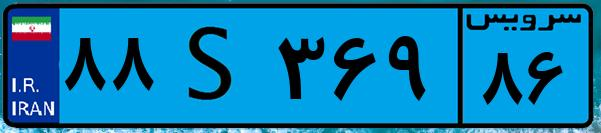3: (270, 28, 330, 110)
6: (330, 28, 385, 110), (525, 38, 570, 115)
8: (57, 26, 110, 100), (475, 38, 525, 113), (110, 28, 158, 98)
9: (385, 28, 445, 110)
S: (158, 12, 270, 120)
